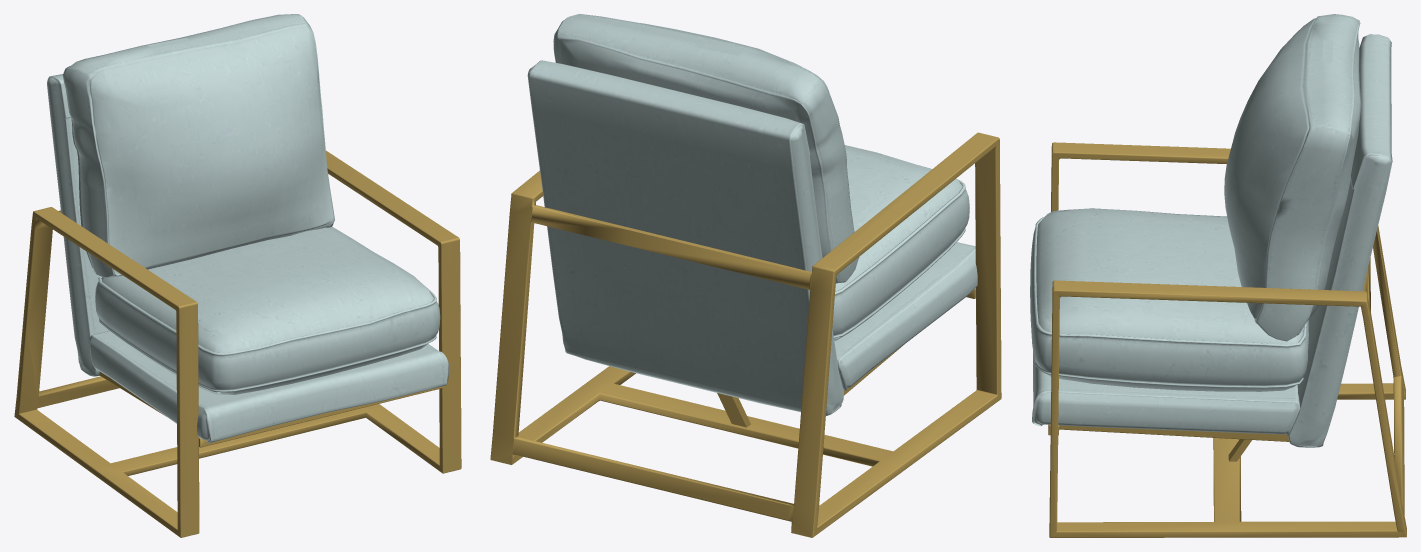
Rendered from armchair_abo_B0746H4BNS.glb.
3 views of the same model, side by side, from view 1: azimuth 30°, elevation 25°; view 2: azimuth 150°, elevation 25°; view 3: azimuth 270°, elevation 25° (orthographic). The views are drawn at different scales.
Visible parts, largest first — view 1: RootNode; view 2: RootNode; view 3: RootNode.
Part boxes in pixels (bbox=[...]): RootNode: bbox=[14, 14, 461, 537]; RootNode: bbox=[490, 14, 1001, 537]; RootNode: bbox=[1030, 14, 1406, 537].
Bounding box in the file's own units: 0.7584 × 0.9557 × 0.813.
1 material, 1 textured.
